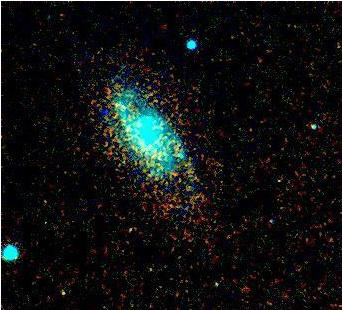star: (88, 99, 118, 129)
